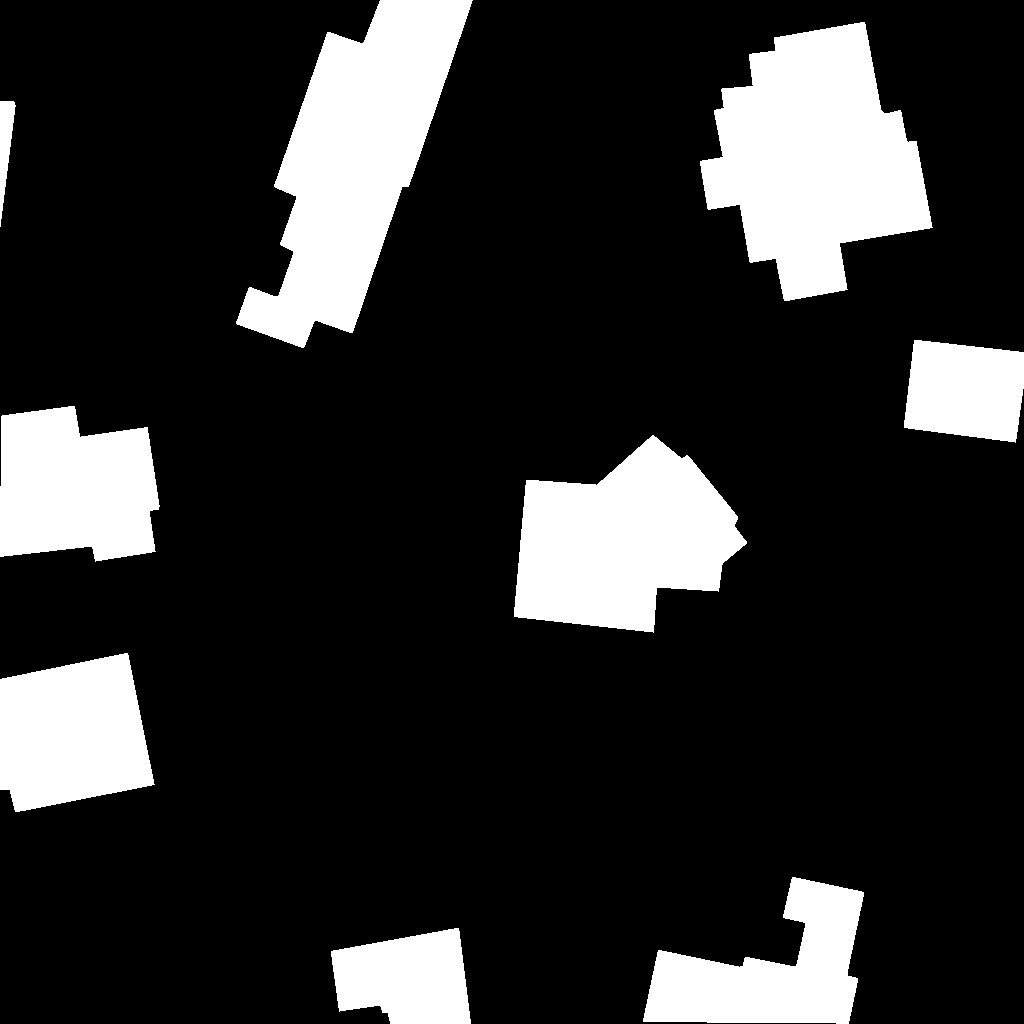building: (236, 0, 474, 349), (700, 22, 933, 302), (514, 435, 748, 633), (643, 877, 865, 1024), (0, 406, 160, 562), (0, 653, 155, 813), (331, 928, 472, 1024), (904, 340, 1024, 443), (0, 101, 16, 231)
